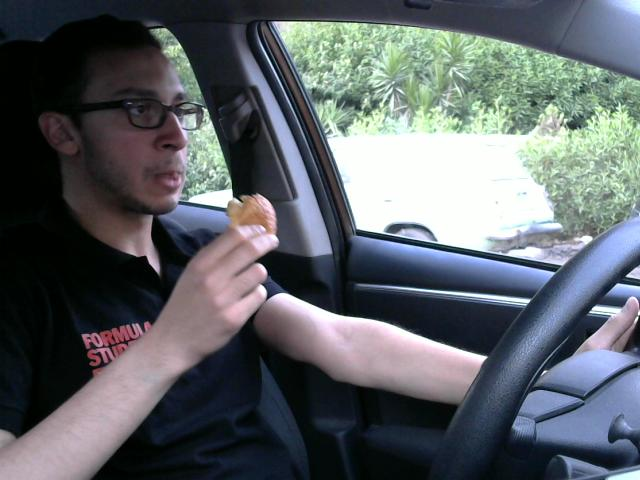Eating: (222, 186, 284, 245)
